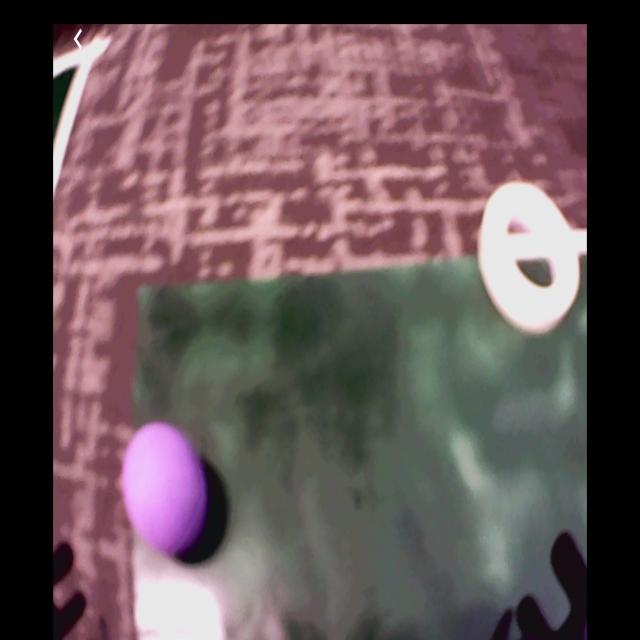ball: (124, 424, 208, 562)
